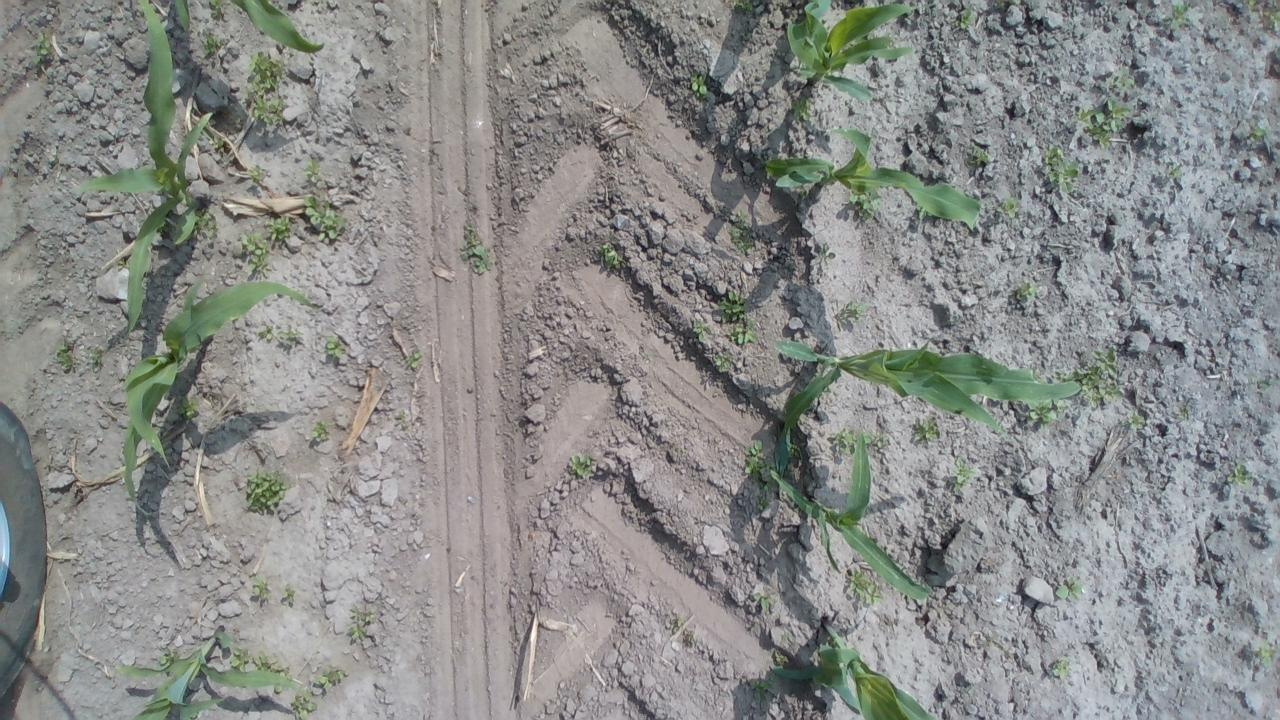Maize: (70, 0, 214, 338), (770, 337, 1084, 485), (122, 280, 314, 498), (770, 428, 934, 602), (764, 128, 984, 231), (768, 618, 936, 720), (114, 627, 290, 720), (786, 0, 914, 104), (173, 0, 324, 54)
Weeds: (240, 49, 289, 127), (1076, 346, 1124, 408), (1075, 96, 1132, 148), (718, 290, 760, 346), (302, 194, 350, 242), (243, 468, 290, 512), (1042, 141, 1080, 194), (742, 439, 778, 490), (238, 231, 274, 280), (458, 224, 492, 274), (1024, 400, 1072, 430), (846, 568, 882, 606), (846, 188, 880, 222), (729, 208, 754, 254), (192, 207, 223, 242), (254, 654, 294, 681), (347, 604, 377, 640), (255, 324, 302, 346), (290, 685, 318, 720), (950, 456, 976, 493), (312, 662, 347, 688), (912, 416, 943, 444), (226, 646, 254, 676), (196, 30, 224, 60), (595, 243, 625, 270), (830, 426, 856, 456), (751, 674, 777, 704), (263, 214, 292, 240), (788, 97, 814, 126), (1054, 576, 1082, 602), (1104, 66, 1134, 90), (568, 454, 594, 480), (994, 194, 1021, 219), (688, 72, 712, 100), (174, 396, 200, 421), (838, 300, 865, 324), (322, 336, 348, 360), (1169, 3, 1192, 30), (250, 574, 273, 600), (31, 30, 49, 63), (1254, 638, 1276, 664), (246, 165, 268, 191), (54, 340, 73, 370), (1226, 463, 1248, 488), (691, 318, 713, 342), (711, 351, 735, 373), (967, 144, 992, 165), (752, 590, 775, 612), (1247, 118, 1266, 144), (302, 158, 322, 182), (1015, 280, 1036, 302), (310, 419, 330, 442), (864, 430, 888, 448), (279, 584, 297, 608), (89, 346, 104, 373), (1264, 3, 1280, 28), (751, 491, 770, 511), (1050, 657, 1068, 678), (818, 240, 836, 260), (728, 0, 752, 15), (1126, 414, 1145, 432), (403, 352, 422, 370), (960, 6, 974, 30), (1053, 367, 1075, 382), (207, 135, 225, 152), (208, 0, 225, 18), (158, 648, 176, 664), (912, 578, 932, 592), (916, 204, 933, 220), (670, 616, 685, 631), (788, 442, 802, 458), (1165, 164, 1181, 178), (1175, 405, 1189, 420), (769, 650, 785, 662), (1246, 0, 1258, 16), (114, 256, 128, 269), (798, 189, 811, 201), (897, 590, 911, 601), (229, 117, 241, 129), (887, 32, 896, 48), (784, 469, 795, 481), (273, 684, 285, 695), (781, 632, 794, 642), (821, 384, 832, 395), (866, 31, 878, 40), (30, 15, 40, 25), (190, 712, 200, 719)
